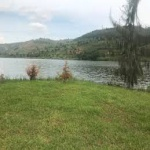Lake: (2, 51, 149, 89)
Uncultivated: (3, 84, 134, 148)
